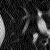node: (36, 19, 50, 36), (35, 9, 46, 18), (32, 32, 39, 44)
